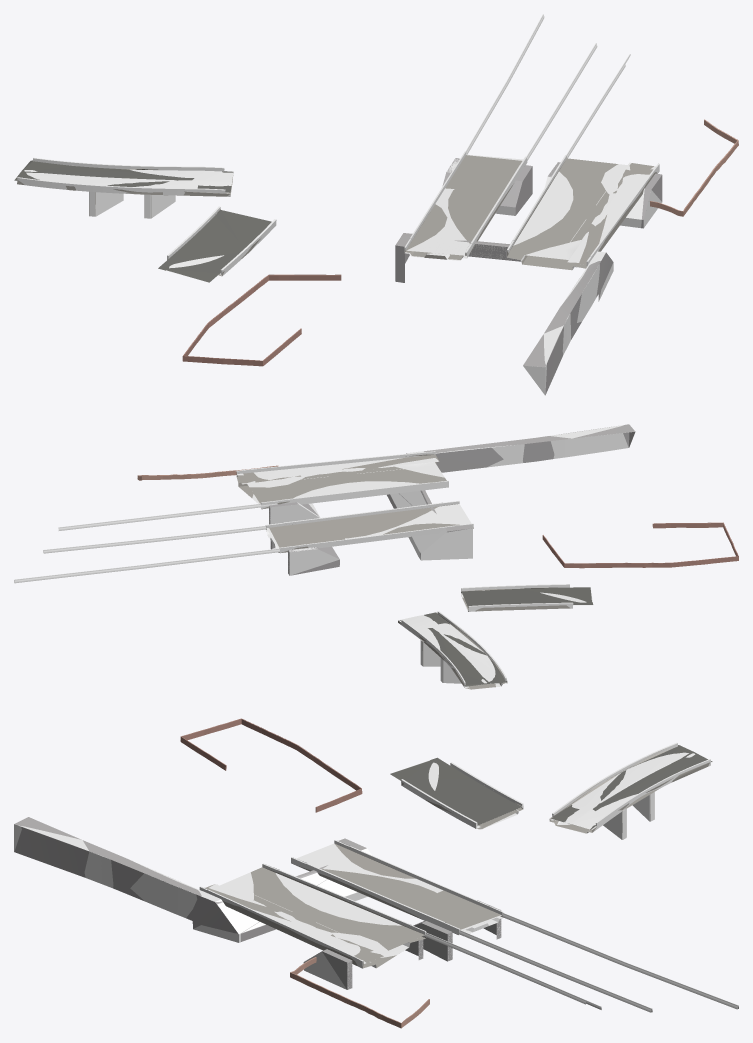
The model's file is construction_tollbooth.dae.
The picture shows the model from 3 angles, top to bottom: view 1: azimuth 30°, elevation 25°; view 2: azimuth 150°, elevation 25°; view 3: azimuth 270°, elevation 25°; orthographic projection. The views are drawn at different scales.
Visible parts, largest first — view 1: construction_tollbooth_a2000, construction_tollbooth_a3000, Colmesh-1; view 2: construction_tollbooth_a3000, construction_tollbooth_a2000, Colmesh-1; view 3: construction_tollbooth_a2000, construction_tollbooth_a3000, Colmesh-1.
Part boxes in pixels (x1,y1,x2,y2): construction_tollbooth_a2000: (14,155,662,394); construction_tollbooth_a3000: (14,14,738,395); Colmesh-1: (17,38,738,366); construction_tollbooth_a3000: (14,425,738,689); construction_tollbooth_a2000: (236,424,635,689); Colmesh-1: (37,452,738,684); construction_tollbooth_a2000: (14,745,712,989); construction_tollbooth_a3000: (14,720,738,1028); Colmesh-1: (181,718,710,1023).
Size of the model in its own units: 241 by 242 by 17.77.
